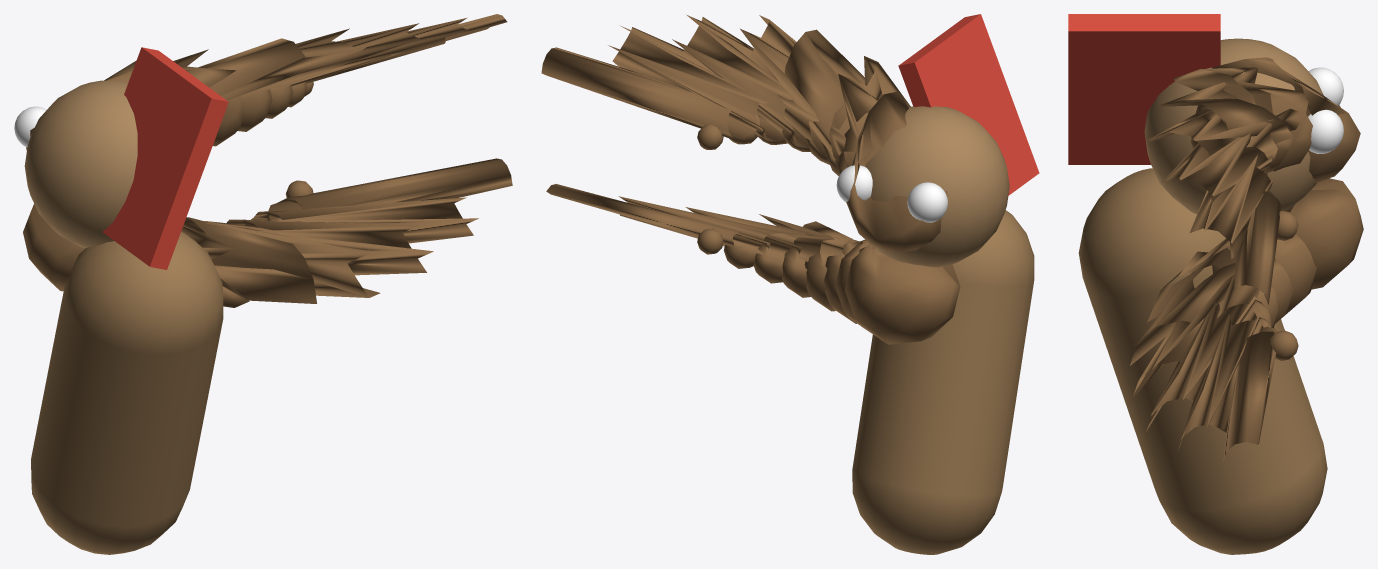
Rendered from viper.glb.
3 renders of one model, left to right at view 1: azimuth 30°, elevation 25°; view 2: azimuth 150°, elevation 25°; view 3: azimuth 270°, elevation 25°, orthographic. The views are drawn at different scales.
Visible parts, largest first — view 1: vi_body.001, vi_jaw-1.001, vi_fin.001, vi_head.001, vi_jaw1.001, vi_eye-1.001; view 2: vi_body.001, vi_jaw1.001, vi_jaw-1.001, vi_head.001, vi_fin.001, vi_eye-1.001, vi_eye1.001; view 3: vi_body.001, vi_jaw-1.001, vi_jaw1.001, vi_fin.001, vi_head.001, vi_eye1.001, vi_eye-1.001.
Part boxes in pixels (x1=…): vi_body.001: x1=31, y1=232, x2=223, y2=554; vi_jaw-1.001: x1=23, y1=158, x2=512, y2=307; vi_fin.001: x1=102, y1=47, x2=228, y2=269; vi_head.001: x1=24, y1=80, x2=137, y2=248; vi_jaw1.001: x1=26, y1=14, x2=507, y2=150; vi_eye-1.001: x1=14, y1=106, x2=46, y2=147; vi_body.001: x1=852, y1=210, x2=1034, y2=554; vi_jaw1.001: x1=541, y1=15, x2=947, y2=251; vi_jaw-1.001: x1=546, y1=184, x2=960, y2=344; vi_head.001: x1=852, y1=106, x2=1009, y2=267; vi_fin.001: x1=898, y1=14, x2=1039, y2=195; vi_eye-1.001: x1=907, y1=182, x2=947, y2=222; vi_eye1.001: x1=836, y1=165, x2=872, y2=202; vi_body.001: x1=1078, y1=168, x2=1327, y2=554; vi_jaw-1.001: x1=1129, y1=178, x2=1363, y2=460; vi_jaw1.001: x1=1148, y1=57, x2=1360, y2=304; vi_fin.001: x1=1068, y1=14, x2=1220, y2=164; vi_head.001: x1=1144, y1=38, x2=1323, y2=214; vi_eye1.001: x1=1308, y1=109, x2=1343, y2=153; vi_eye-1.001: x1=1308, y1=67, x2=1343, y2=105.
Size of the model in its own units: 1.02 by 1.05 by 0.5138.
